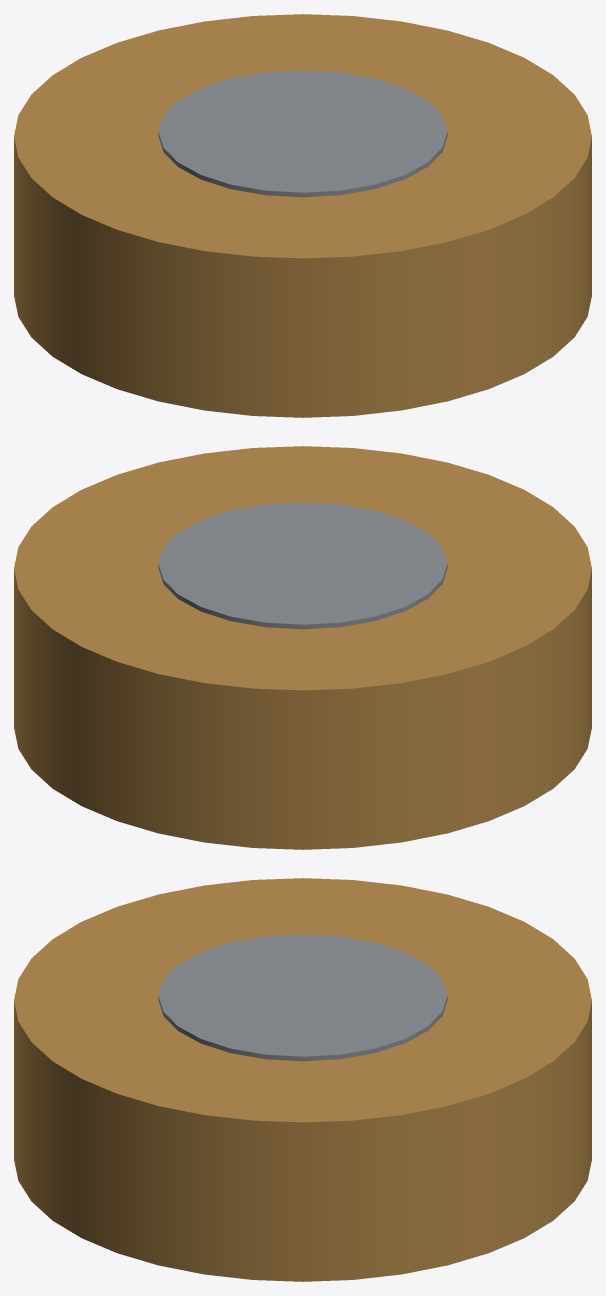
The model's file is drive_wheel.obj.
3 renders of one model, top to bottom at view 1: azimuth 30°, elevation 25°; view 2: azimuth 150°, elevation 25°; view 3: azimuth 270°, elevation 25°, orthographic.
Parts seen in each view (by area): view 1: drive_wheel_tyre, drive_wheel_hub; view 2: drive_wheel_tyre, drive_wheel_hub; view 3: drive_wheel_tyre, drive_wheel_hub.
Part boxes in pixels (<box>): drive_wheel_tyre: <box>14,14,591,417</box>; drive_wheel_hub: <box>158,70,447,197</box>; drive_wheel_tyre: <box>14,446,591,849</box>; drive_wheel_hub: <box>158,502,447,629</box>; drive_wheel_tyre: <box>14,878,591,1281</box>; drive_wheel_hub: <box>158,934,447,1061</box>.
Size of the model in its own units: 0.23 by 0.074 by 0.23.
